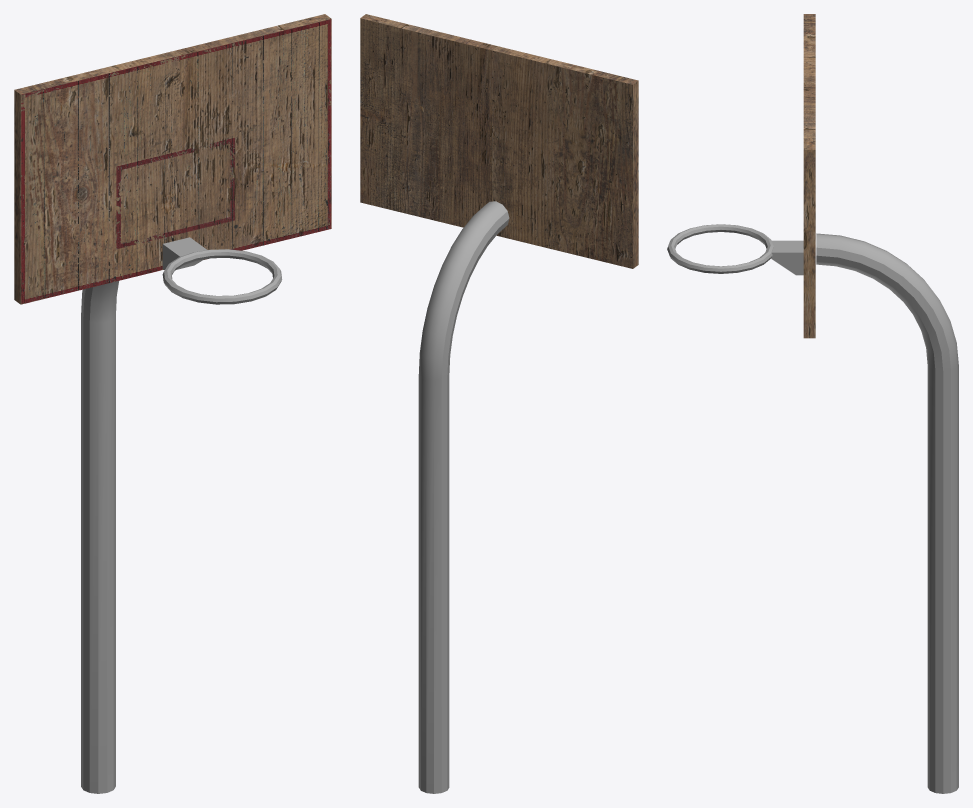
Rendered from basketball-hoop.fbx.
The picture shows the model from 3 angles, left to right: view 1: azimuth 30°, elevation 25°; view 2: azimuth 150°, elevation 25°; view 3: azimuth 270°, elevation 25°; orthographic projection. The views are drawn at different scales.
Parts seen in each view (by area): view 1: backboard, leg, hoop, supp_hoop; view 2: backboard, leg; view 3: leg, backboard, hoop, supp_hoop.
Boxes of the visible parts, x1,y1,x2,y2 form: backboard: (14, 14, 331, 304); leg: (81, 281, 118, 793); hoop: (162, 249, 282, 304); supp_hoop: (162, 237, 206, 269); backboard: (360, 14, 638, 268); leg: (418, 201, 509, 793); leg: (816, 233, 958, 793); backboard: (803, 14, 815, 338); hoop: (667, 224, 773, 273); supp_hoop: (771, 240, 803, 275).
Size of the model in its own units: 259 by 626 by 235.
2 materials, 1 textured.
